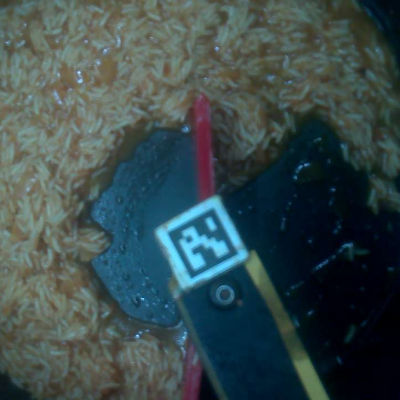stirrer: (148, 191, 336, 398)
